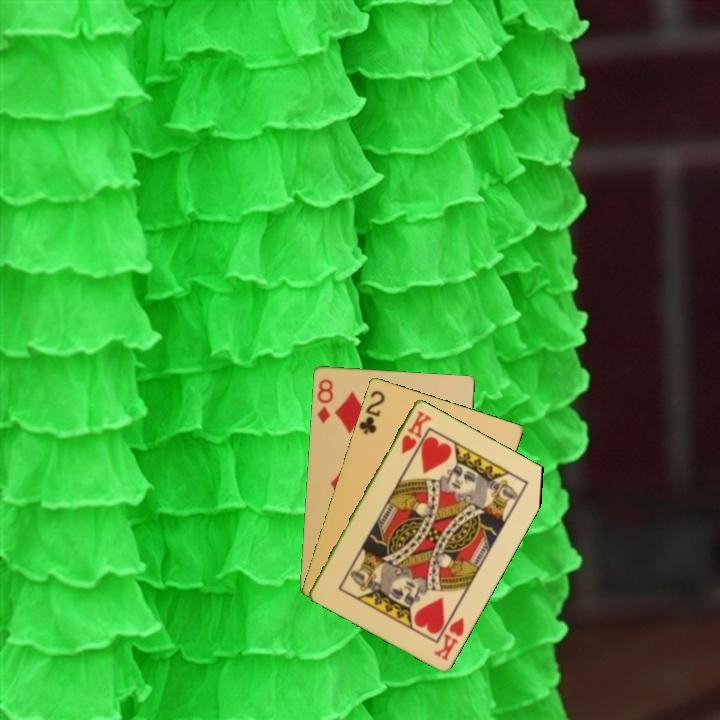2c: (355, 387, 388, 437)
8d: (313, 375, 336, 426)
Kh: (430, 613, 467, 663), (397, 407, 434, 456)
